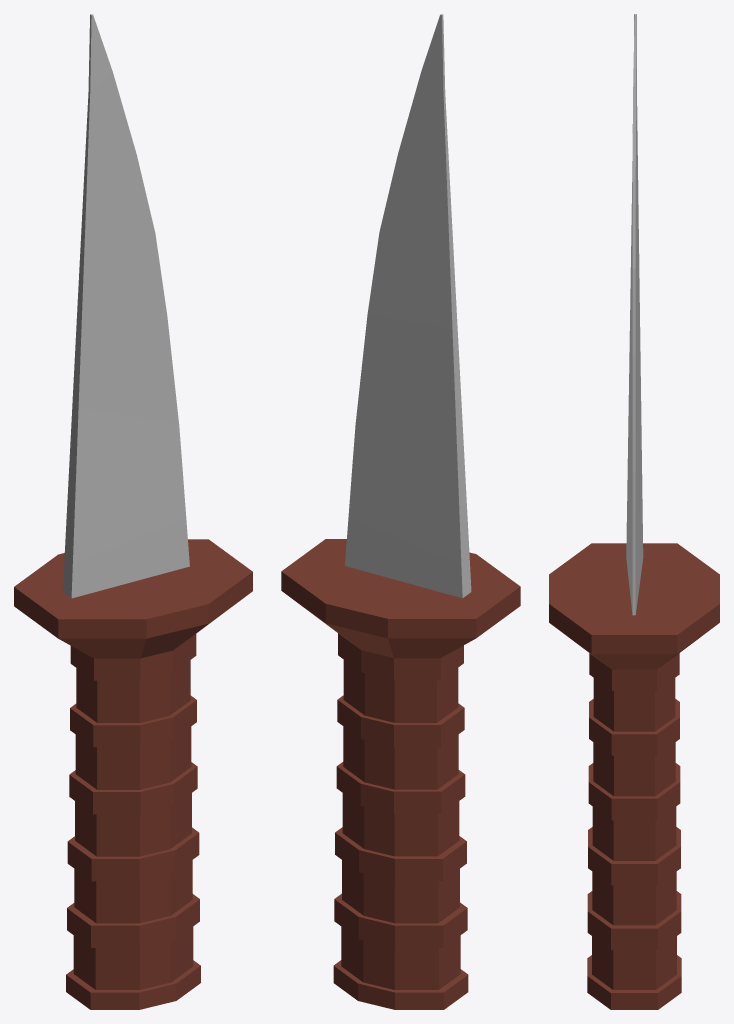
Rendered from Knife.fbx.
3 renders of one model, left to right at view 1: azimuth 30°, elevation 25°; view 2: azimuth 150°, elevation 25°; view 3: azimuth 270°, elevation 25°, orthographic. The views are drawn at different scales.
Parts seen in each view (by area): view 1: Knife; view 2: Knife; view 3: Knife.
Boxes of the visible parts, <box> form: Knife: <box>14,14,252,1009</box>; Knife: <box>281,14,520,1009</box>; Knife: <box>549,14,719,1009</box>.
Bounding box in the file's own units: 4.59 × 22.15 × 3.61.
